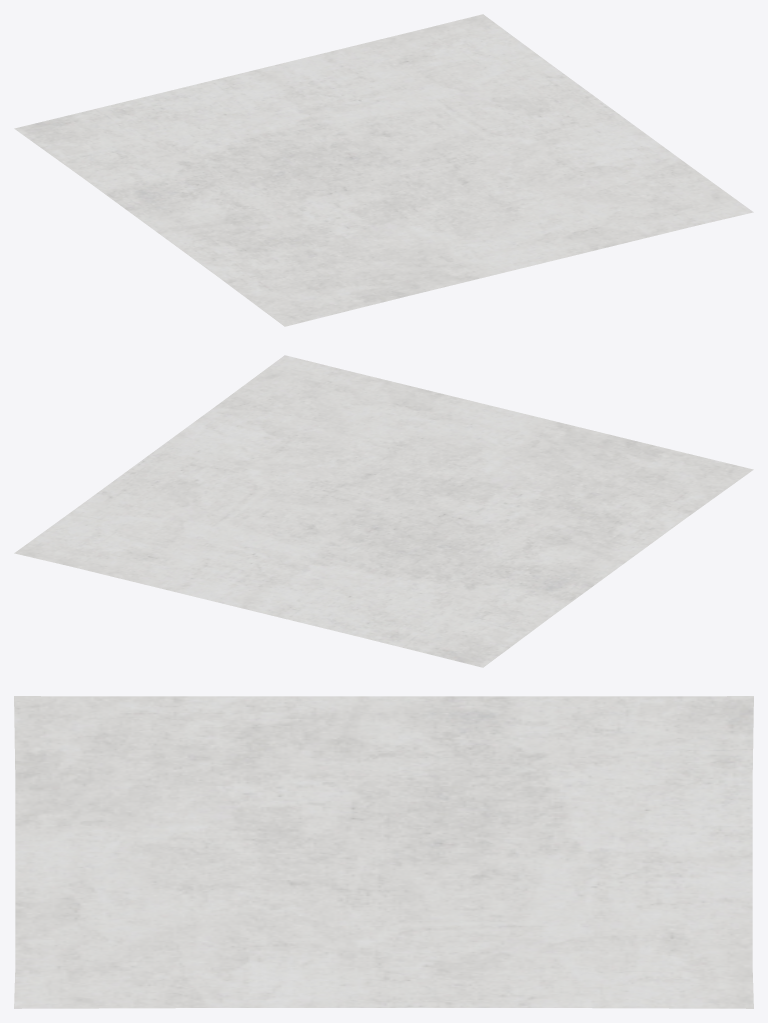
Rendered from museumfloor1.glb.
3 renders of one model, top to bottom at view 1: azimuth 30°, elevation 25°; view 2: azimuth 150°, elevation 25°; view 3: azimuth 270°, elevation 25°, orthographic. The views are drawn at different scales.
Parts seen in each view (by area): view 1: Cube.001; view 2: Cube.001; view 3: Cube.001.
Boxes of the visible parts, box(x1,y1,x2,y2) form: Cube.001: box(14, 14, 753, 326); Cube.001: box(14, 355, 753, 667); Cube.001: box(14, 696, 753, 1008).
Bounding box in the file's own units: 39.42 × 0.053 × 39.42.
Materials: 1 (1 with a texture image).
